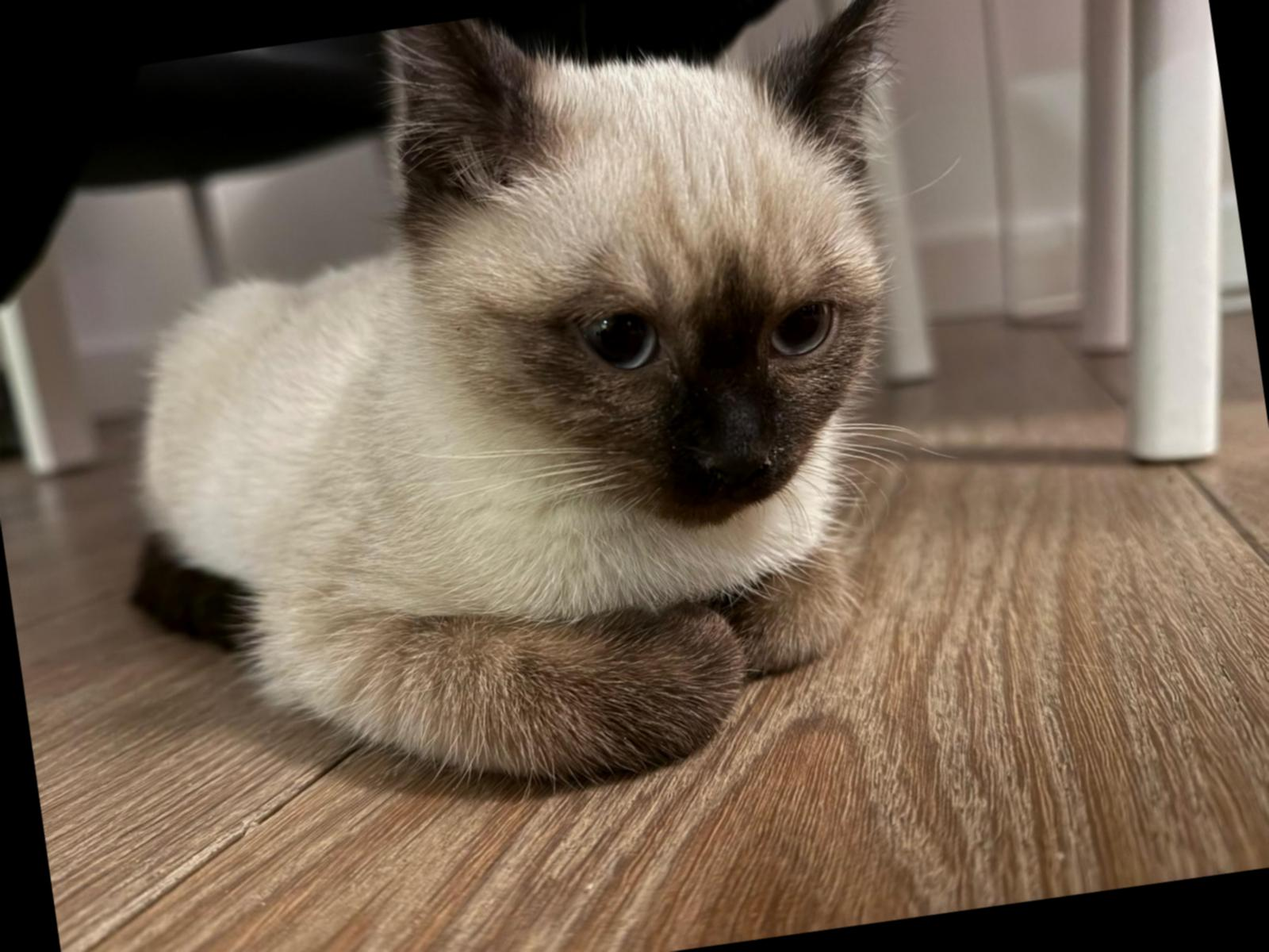macka: (48, 0, 1017, 846)
